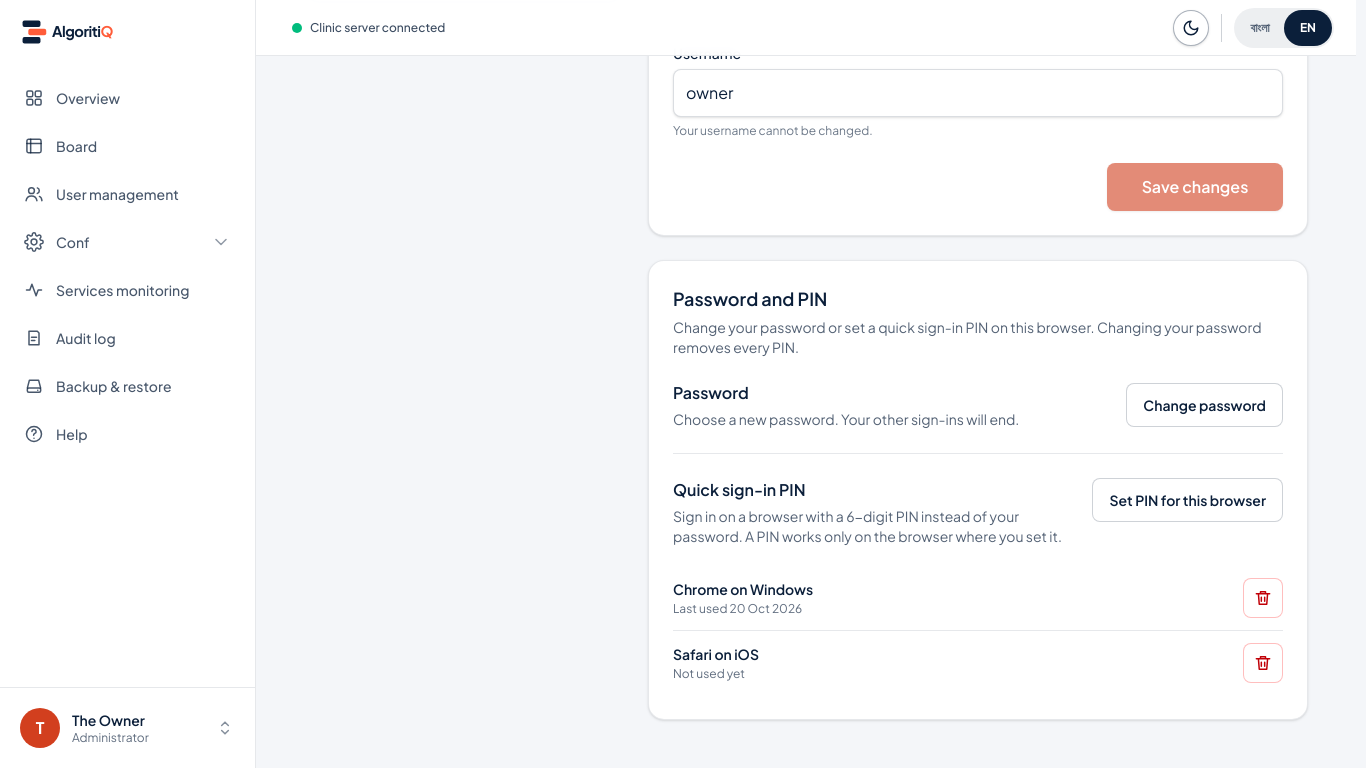
Scenario: PIN card in settings › removing a PIN › should remove one browser and say so
The image size is (1366, 768).
(page scrolled)
Check: the heading "Password and PIN" is shown, box [673,287,827,310]
Click the button named "Remove PIN: Safari on iOS". click: (1263, 663)
box: [1243,643,1283,683]
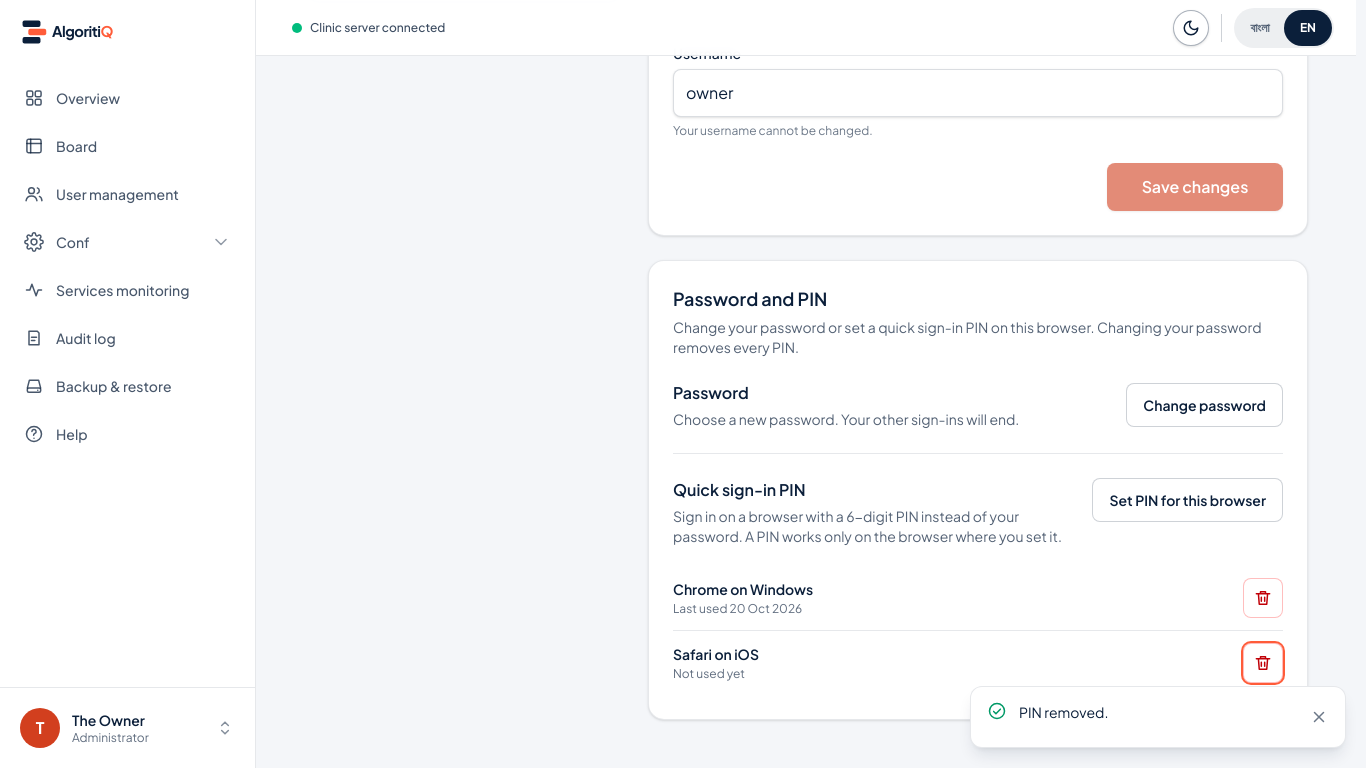
Check: the text "PIN removed." is shown, box [1019,703,1108,721]
